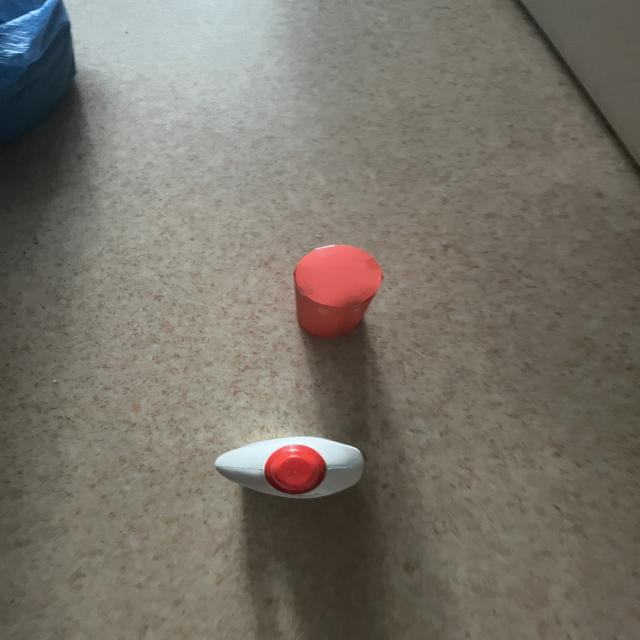przeszkoda: (294, 245, 383, 337)
